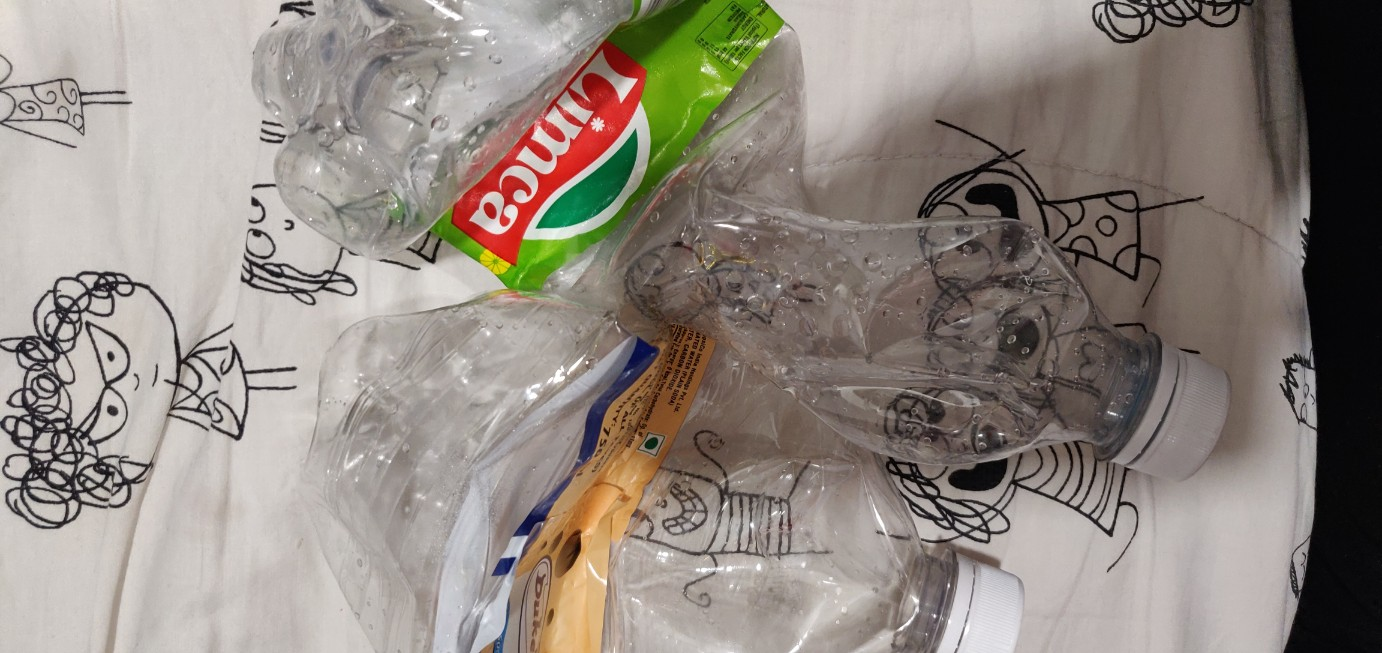Electronics: (237, 1, 1254, 497), (274, 265, 1065, 653)
